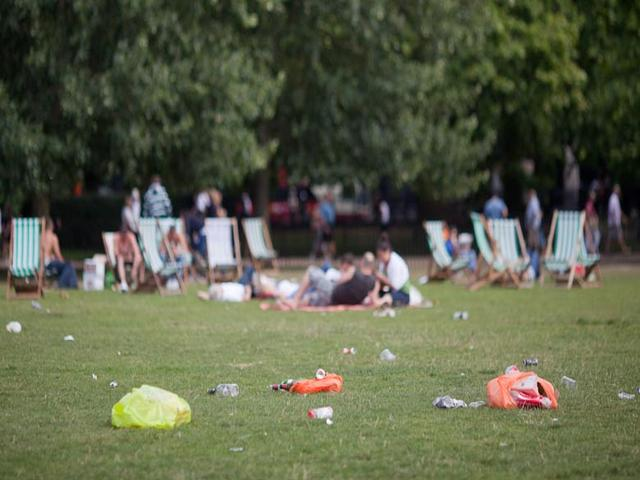garbage: (480, 376, 560, 412), (273, 372, 352, 396)
